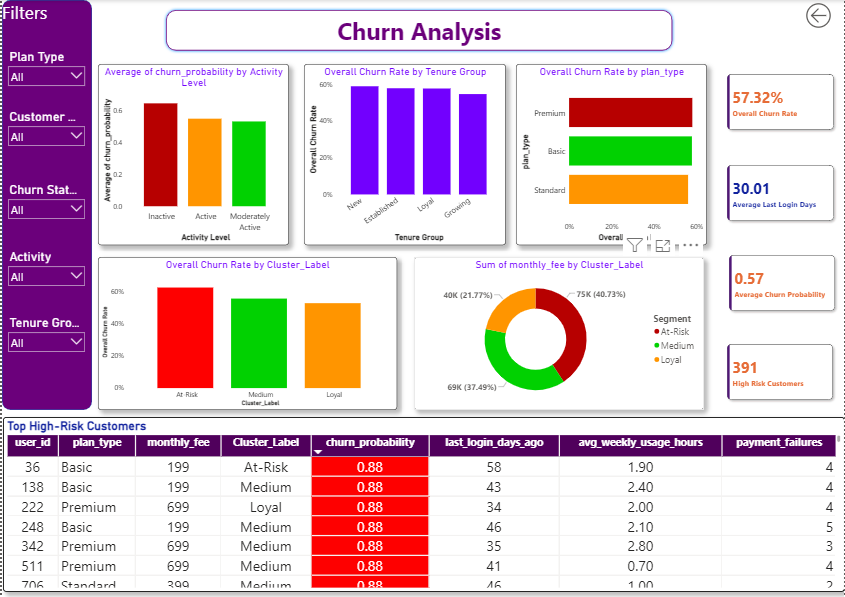

The dashboard page shown, as its layout file describes it:
{"tool":"powerbi","page":{"name":"Churn Analysis","canvas":[2000,1500],"ordinal":3},"visuals":[{"type":"cardVisual","fields":{"Data":["customer_analytics_final.Overall Churn Rate"]},"box":[1697,151.9,301.4,180.4],"z":0},{"type":"slicer","fields":{"Values":["customer_analytics_final.plan_type"]},"box":[5.8,110.8,202,129.2],"z":1000,"group":"g1"},{"type":"cardVisual","fields":{"Data":["customer_analytics_final.High Risk Customers"]},"box":[1697,792.7,299.1,180.4],"z":1000},{"type":"slicer","fields":{"Values":["customer_analytics_final.Cluster_Label"]},"box":[5.8,252.7,201.6,121.6],"z":2000,"group":"g1"},{"type":"cardVisual","fields":{"Data":["customer_analytics_final.Average Churn Probability"]},"box":[1701.7,581.5,299.1,180.4],"z":2000},{"type":"cardVisual","fields":{"Data":["customer_analytics_final.Average Last Login Days"]},"box":[1697,367.9,301.4,180.4],"z":3000},{"type":"slicer","fields":{"Values":["customer_analytics_final.predicted_churn"]},"box":[5.8,427.5,201.6,129.2],"z":3000,"group":"g1"},{"type":"clusteredColumnChart","fields":{"Category":["customer_analytics_final.Activity Level"],"Y":["Avg(customer_analytics_final.churn_probability)"]},"box":[227.8,151.9,453.3,429.6],"z":4000},{"type":"slicer","fields":{"Values":["customer_analytics_final.avg_weekly_usage_hours"]},"box":[5.8,584.5,201.6,121.6],"z":4000,"group":"g1"},{"type":"clusteredColumnChart","fields":{"Category":["customer_analytics_final.Tenure Group"],"Y":["customer_analytics_final.Overall Churn Rate"]},"box":[716.8,151.9,479.4,429.6],"z":5000},{"type":"slicer","fields":{"Values":["customer_analytics_final.tenure_months"]},"box":[5.8,741.6,201.6,136.8],"z":5000,"group":"g1"},{"type":"clusteredBarChart","fields":{"Category":["customer_analytics_final.plan_type"],"Y":["customer_analytics_final.Overall Churn Rate"]},"box":[1219.9,151.9,453.3,429.6],"z":6000},{"type":"shape","box":[0,0,213.6,973.1],"z":6501,"group":"g2"},{"type":"group","id":"g1","title":"Group 1","box":[5.8,110.8,202,769.2],"z":6509,"group":"g2"},{"type":"clusteredColumnChart","fields":{"Category":["customer_analytics_final.Cluster_Label"],"Y":["customer_analytics_final.Overall Churn Rate"]},"box":[227.8,610,709.7,363.1],"z":7000},{"type":"donutChart","fields":{"Category":["customer_analytics_final.Cluster_Label"],"Y":["Sum(customer_analytics_final.monthly_fee)"]},"box":[977.8,610,688.3,363.1],"z":8000},{"type":"tableEx","title":"Top High-Risk Customers","fields":{"Values":["customer_analytics_final.user_id","customer_analytics_final.plan_type","customer_analytics_final.monthly_fee","customer_analytics_final.Cluster_Label","customer_analytics_final.churn_probability","customer_analytics_final.last_login_days_ago","customer_analytics_final.avg_weekly_usage_hours","customer_analytics_final.payment_failures"]},"box":[2.4,989.7,1998.4,415.3],"z":9000},{"type":"group","id":"g2","title":"Group 2","box":[0,0,213.6,973.1],"z":10000},{"type":"shape","box":[383.2,17.7,1216.1,110.8],"z":11000},{"type":"actionButton","box":[1901.1,0,99.7,73.6],"z":11001}]}

Visuals, with their boxes on the page's 2000x1500 design canvas (x1, y1, x2, y2). These are canvas units, not pixel positions in the 845x597 screenshot, which may show the page scaled, cropped or inside an application window:
cardVisual - customer_analytics_final.Overall Churn Rate: pyautogui.locateOnScreen(1697, 152, 1998, 332)
slicer - customer_analytics_final.plan_type: pyautogui.locateOnScreen(6, 111, 208, 240)
cardVisual - customer_analytics_final.High Risk Customers: pyautogui.locateOnScreen(1697, 793, 1996, 973)
slicer - customer_analytics_final.Cluster_Label: pyautogui.locateOnScreen(6, 253, 207, 374)
cardVisual - customer_analytics_final.Average Churn Probability: pyautogui.locateOnScreen(1702, 582, 2001, 762)
cardVisual - customer_analytics_final.Average Last Login Days: pyautogui.locateOnScreen(1697, 368, 1998, 548)
slicer - customer_analytics_final.predicted_churn: pyautogui.locateOnScreen(6, 428, 207, 557)
clusteredColumnChart - customer_analytics_final.Activity Level x Avg(customer_analytics_final.churn_probability): pyautogui.locateOnScreen(228, 152, 681, 582)
slicer - customer_analytics_final.avg_weekly_usage_hours: pyautogui.locateOnScreen(6, 584, 207, 706)
clusteredColumnChart - customer_analytics_final.Tenure Group x customer_analytics_final.Overall Churn Rate: pyautogui.locateOnScreen(717, 152, 1196, 582)
slicer - customer_analytics_final.tenure_months: pyautogui.locateOnScreen(6, 742, 207, 878)
clusteredBarChart - customer_analytics_final.plan_type x customer_analytics_final.Overall Churn Rate: pyautogui.locateOnScreen(1220, 152, 1673, 582)
shape: pyautogui.locateOnScreen(0, 0, 214, 973)
"Group 1" group: pyautogui.locateOnScreen(6, 111, 208, 880)
clusteredColumnChart - customer_analytics_final.Cluster_Label x customer_analytics_final.Overall Churn Rate: pyautogui.locateOnScreen(228, 610, 938, 973)
donutChart - customer_analytics_final.Cluster_Label x Sum(customer_analytics_final.monthly_fee): pyautogui.locateOnScreen(978, 610, 1666, 973)
"Top High-Risk Customers" tableEx: pyautogui.locateOnScreen(2, 990, 2001, 1405)
"Group 2" group: pyautogui.locateOnScreen(0, 0, 214, 973)
shape: pyautogui.locateOnScreen(383, 18, 1599, 128)
actionButton: pyautogui.locateOnScreen(1901, 0, 2001, 74)
